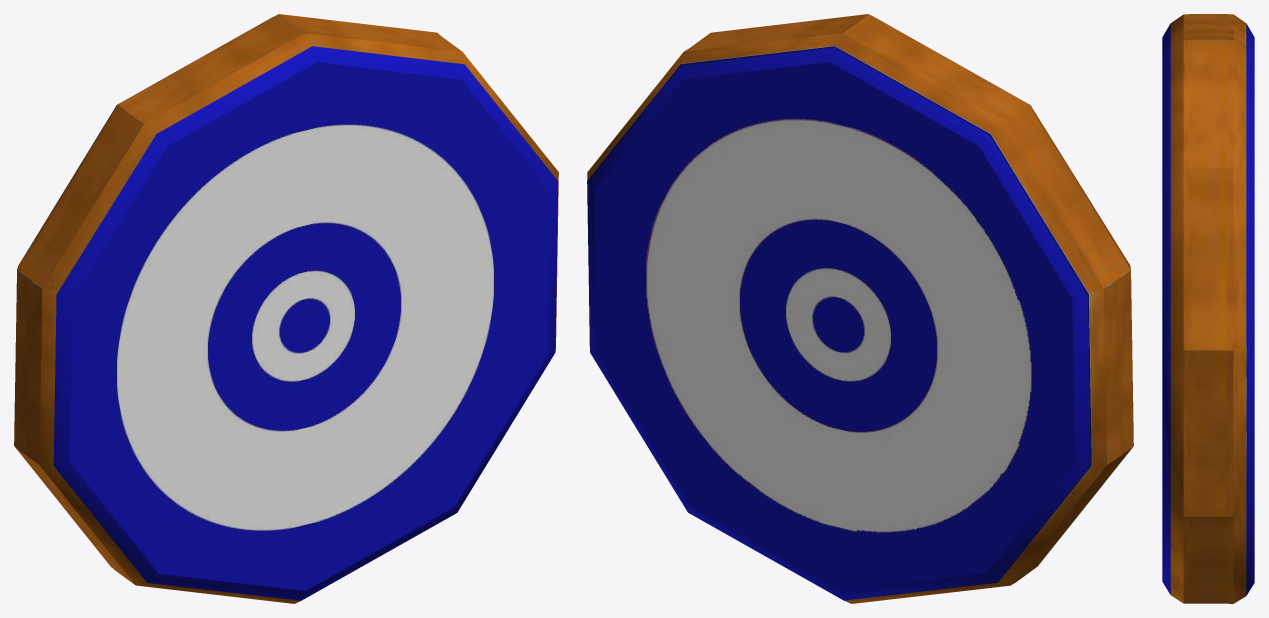
The model's file is BlueAim.fbx.
3 renders of one model, left to right at view 1: azimuth 30°, elevation 25°; view 2: azimuth 150°, elevation 25°; view 3: azimuth 270°, elevation 25°, orthographic. The views are drawn at different scales.
Parts seen in each view (by area): view 1: Cylinder002; view 2: Cylinder002; view 3: Cylinder002.
Boxes of the visible parts, x1,y1,x2,y2 form: Cylinder002: (14, 14, 558, 603); Cylinder002: (587, 14, 1133, 603); Cylinder002: (1162, 14, 1254, 603).
Bounding box in the file's own units: 27.07 × 28.26 × 4.35.
